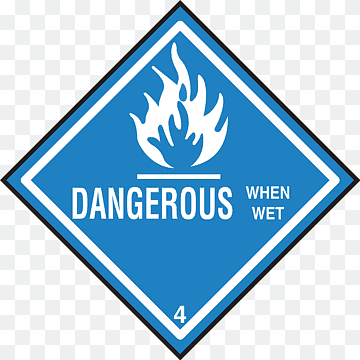Dangerous when wet: (1, 1, 360, 360)
